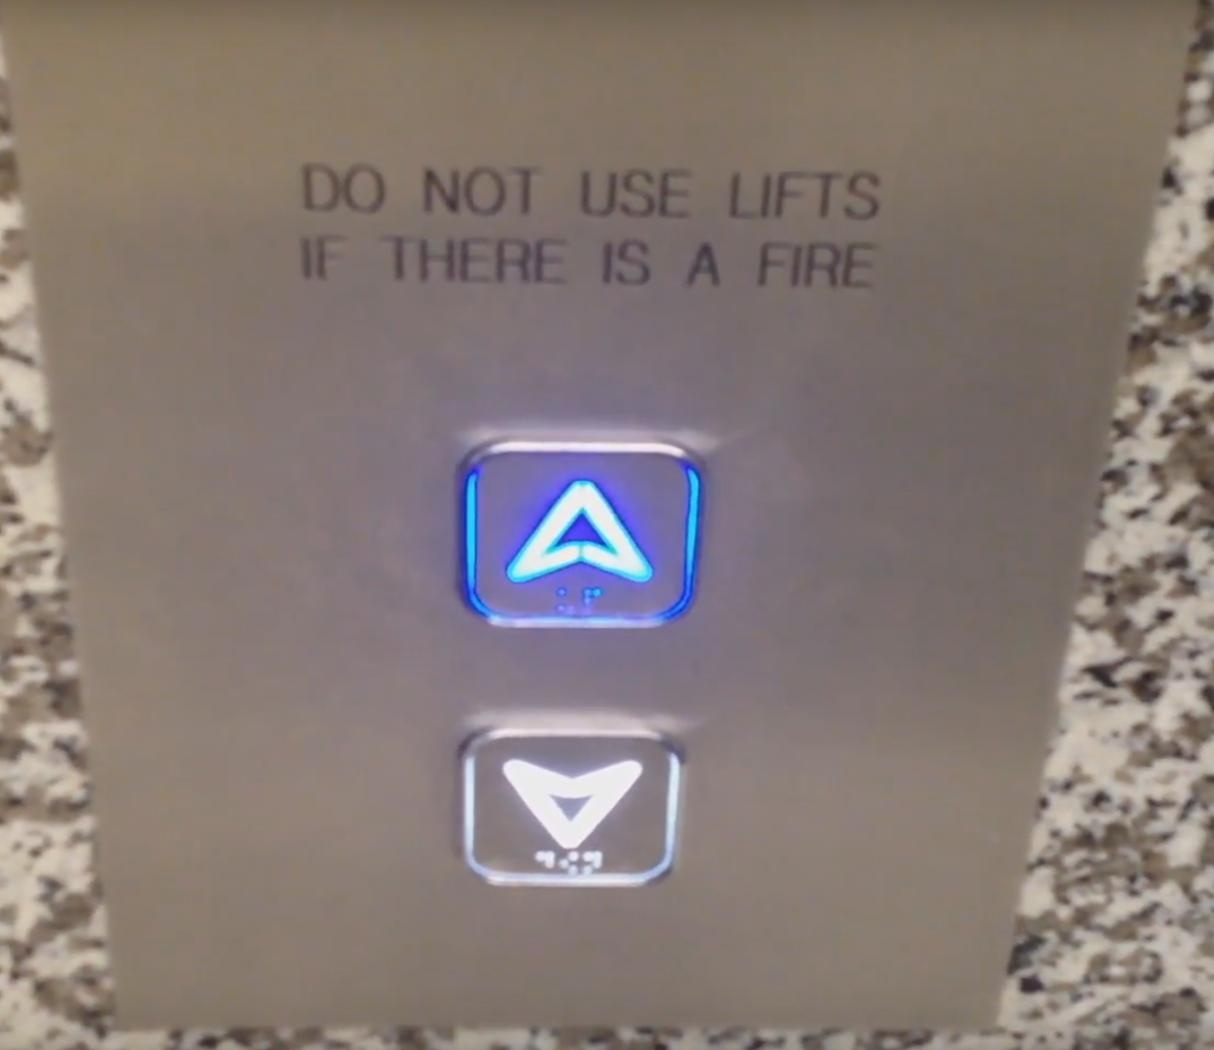down: (451, 717, 688, 898)
up: (449, 423, 710, 641)
